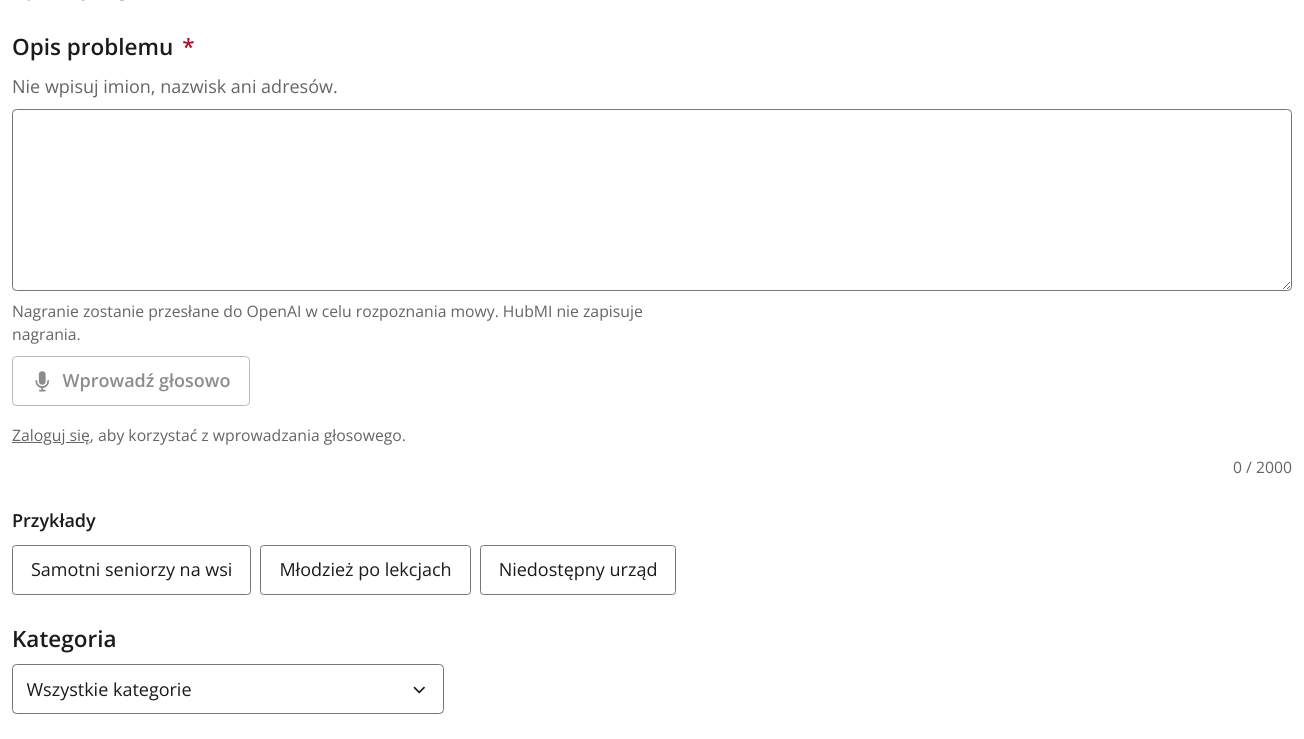
Test: MatchExperience › renders results, focuses the heading and syncs the URL
Type "Młodzież po lekcjach nie ma gdzie spędzać czasu" into the text box labelled "Opis problemu" at (652,200), box top-left (12, 109), bottom-right (1292, 291)
(page scrolled)
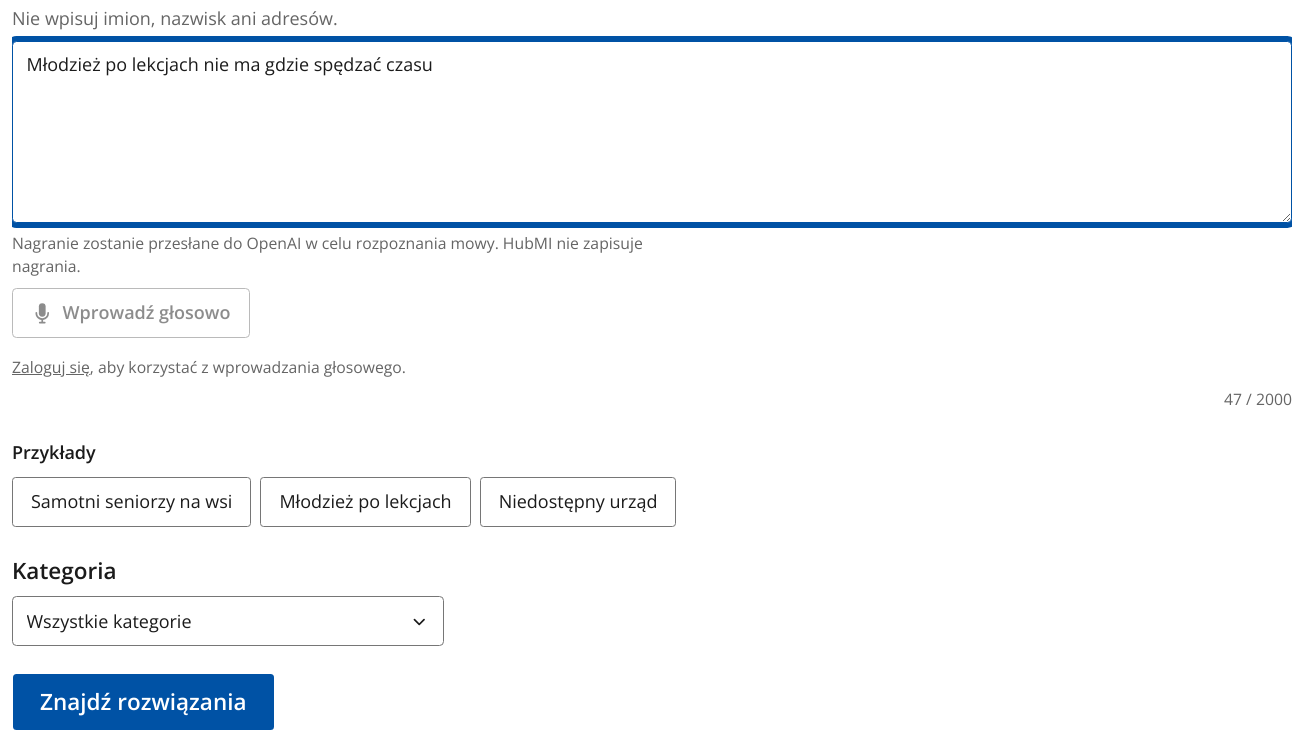
Click the button "Znajdź rozwiązania" at (143,702), box top-left (12, 673), bottom-right (274, 731)
(page scrolled)
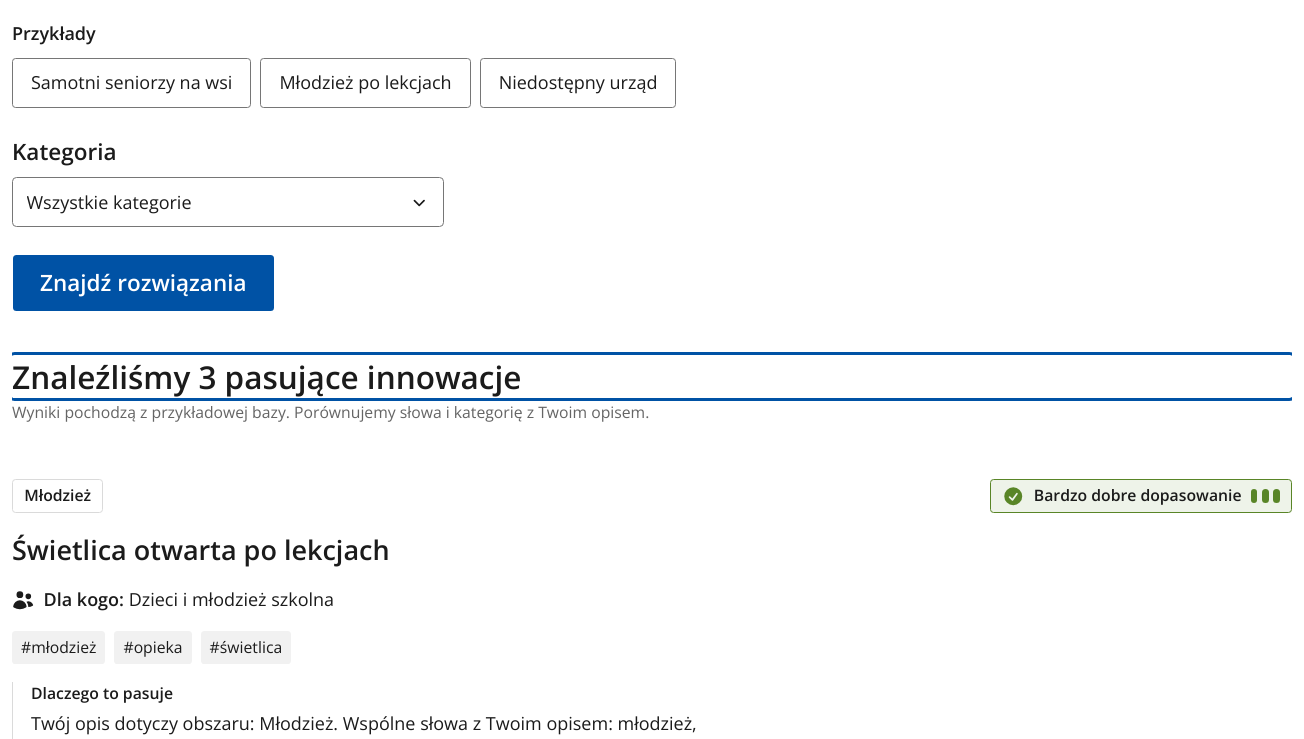
Check: the text "Wyniki pochodzą z przykładowej bazy. Porównujemy słowa i kategorię z Twoim opisem." is shown, box top-left (12, 401), bottom-right (649, 423)
Check: the text "Bardzo dobre dopasowanie" is shown, box top-left (1034, 484), bottom-right (1242, 508)
